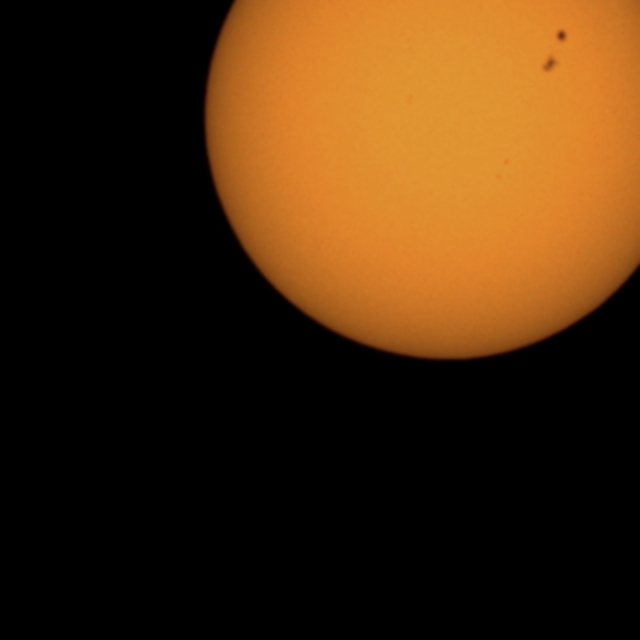sunspot: (540, 54, 561, 76), (494, 158, 511, 183), (554, 27, 570, 45)
